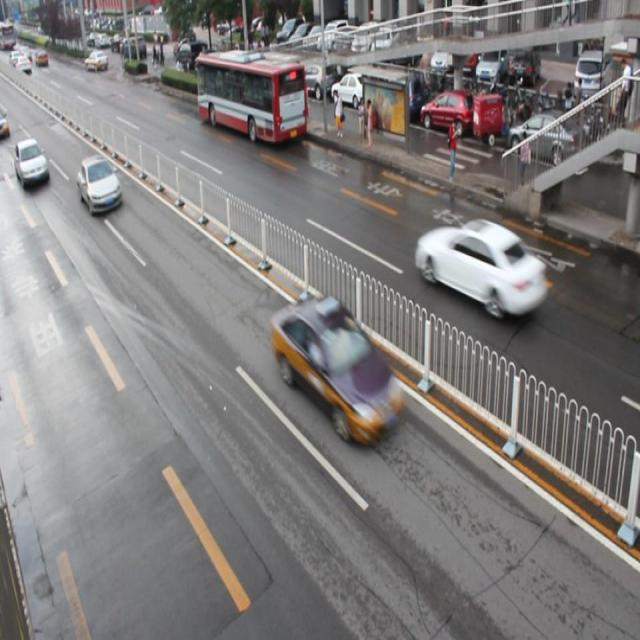car: (270, 295, 400, 437), (415, 216, 546, 315), (78, 154, 123, 213), (14, 138, 50, 190)
van: (196, 51, 306, 140)
